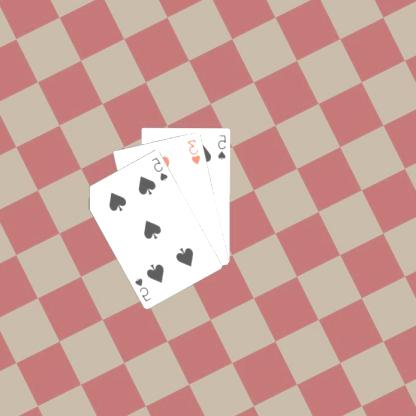3H: (186, 136, 204, 166)
5S: (150, 154, 171, 182), (134, 275, 154, 303), (217, 132, 229, 161)
